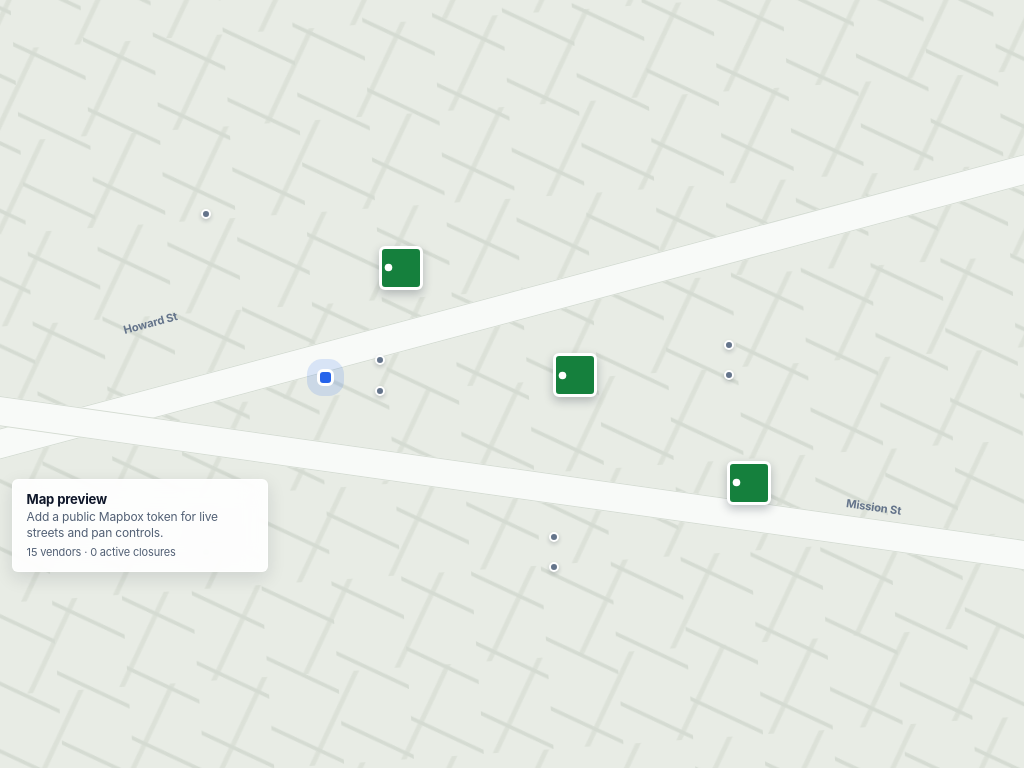
Test: map result interaction › removes fallback vendor details if the selected vendor disappears
Click the button named "Vendor Golden Gate Halal. Cuisine halal. Truck. Permit statu" at (206,214), box [184, 192, 228, 236]
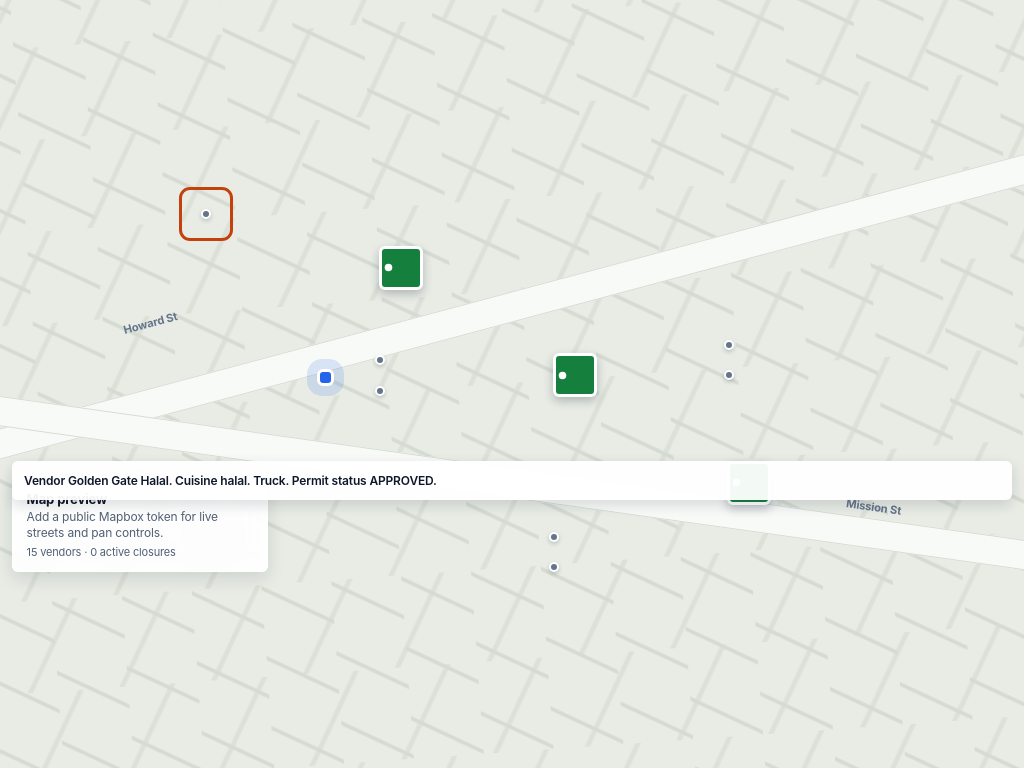
Result: the message "Vendor Golden Gate Halal. Cuisine halal. Truck. Permit status APPROVED." is shown at [12, 461, 1012, 500]
